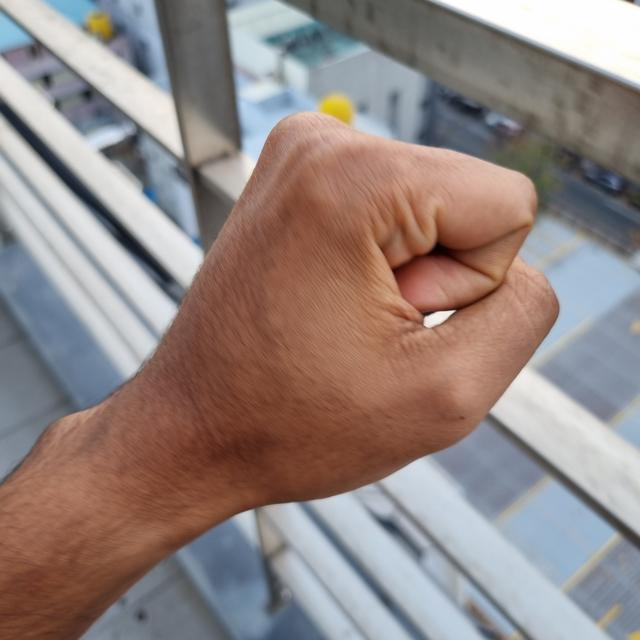Rock: (119, 113, 556, 506)
